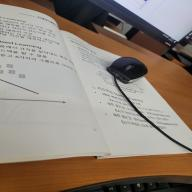mouse: (106, 56, 149, 84)
